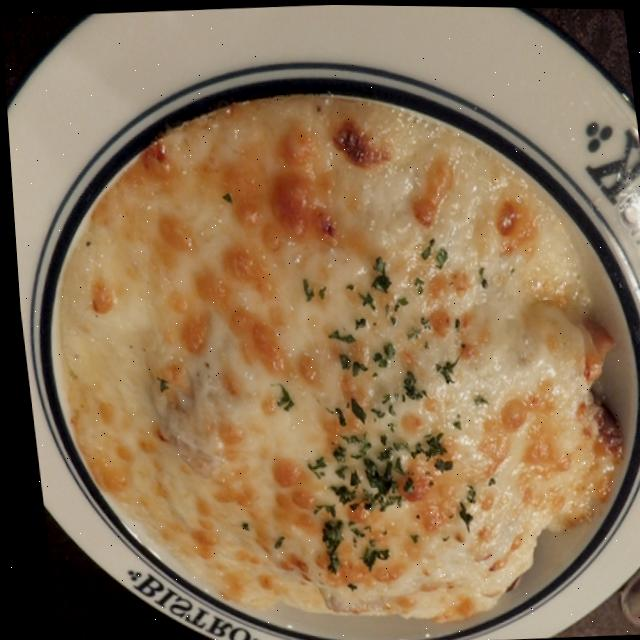米饭主食: (47, 65, 632, 629)
